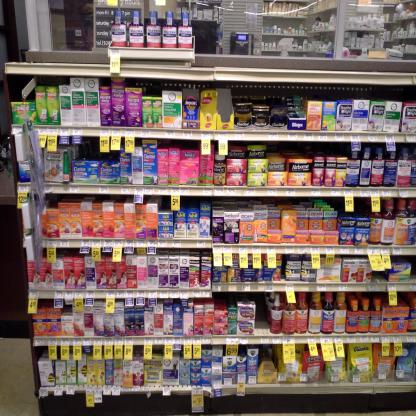Void: (235, 83, 415, 99), (81, 136, 99, 162), (256, 292, 268, 328), (353, 200, 370, 218)
